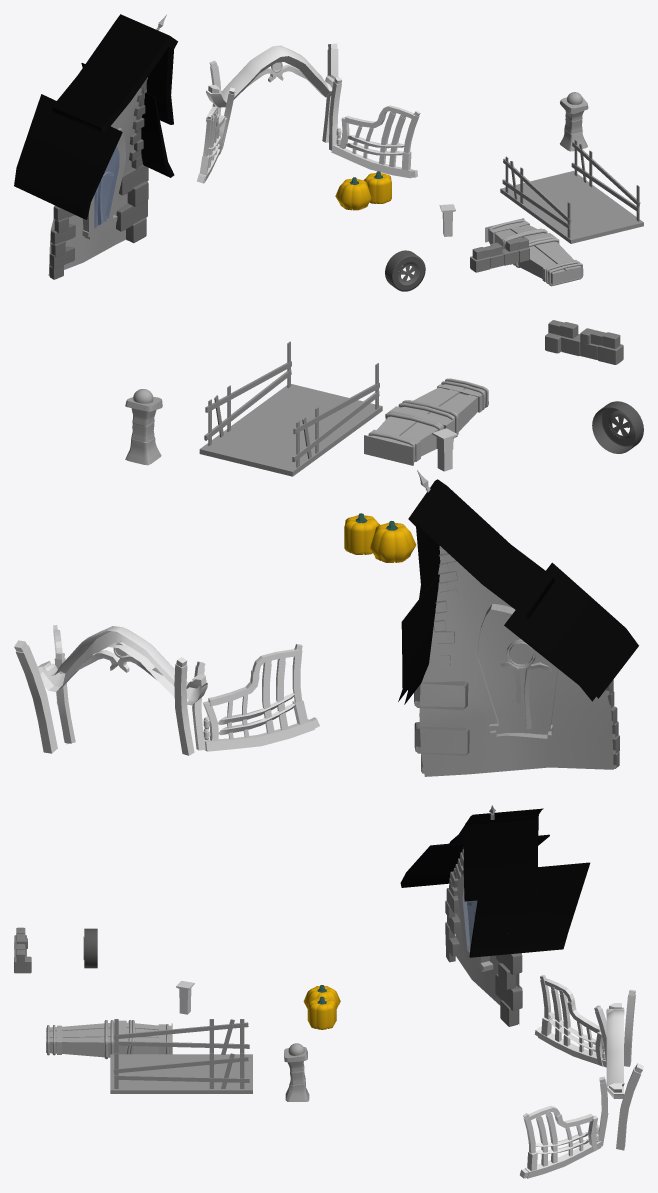
Rendered from roun pillaert.fbx.
3 renders of one model, top to bottom at view 1: azimuth 30°, elevation 25°; view 2: azimuth 150°, elevation 25°; view 3: azimuth 270°, elevation 25°, orthographic. The views are drawn at different scales.
Parts seen in each view (by area): view 1: ROVK63, my_old_tire:cart, my_old_tire:my_old_tire:gate_gear, my_old_tire:my_old_tire:rope, my_old_tire:gat_top, my_old_tire:stone_wall, my_old_tire:my_old_tire:gate_gear3, my_old_tire:statue, my_old_tire:tire_rubber1, my_old_tire:pumkins, my_old_tire:PUMKIN, rod15 (+1 smaller); view 2: ROVK63, my_old_tire:cart, my_old_tire:my_old_tire:gate_gear3, my_old_tire:my_old_tire:rope, my_old_tire:gat_top, my_old_tire:stone_wall, my_old_tire:statue, rod15, my_old_tire:tire_rubber1, my_old_tire:pumkins, rod17, my_old_tire:PUMKIN (+2 smaller); view 3: ROVK63, my_old_tire:cart, my_old_tire:my_old_tire:rope, my_old_tire:my_old_tire:gate_gear, my_old_tire:my_old_tire:gate_gear3, my_old_tire:gat_top, my_old_tire:statue, my_old_tire:PUMKIN, rod15, my_old_tire:stone_wall, rod17, my_old_tire:tire_rubber1.
Part boxes in pixels (bbox=[...]): ROVK63: bbox=[14, 14, 177, 279]; my_old_tire:cart: bbox=[500, 139, 643, 243]; my_old_tire:my_old_tire:gate_gear: bbox=[331, 105, 420, 178]; my_old_tire:my_old_tire:rope: bbox=[485, 218, 583, 286]; my_old_tire:gat_top: bbox=[206, 45, 340, 107]; my_old_tire:stone_wall: bbox=[470, 237, 529, 272]; my_old_tire:my_old_tire:gate_gear3: bbox=[197, 106, 227, 183]; my_old_tire:statue: bbox=[560, 92, 588, 151]; my_old_tire:tire_rubber1: bbox=[385, 250, 425, 291]; my_old_tire:pumkins: bbox=[335, 177, 371, 210]; my_old_tire:PUMKIN: bbox=[363, 171, 391, 203]; rod15: bbox=[322, 43, 338, 142]; ROVK63: bbox=[398, 479, 638, 776]; my_old_tire:cart: bbox=[199, 341, 382, 476]; my_old_tire:my_old_tire:gate_gear3: bbox=[203, 644, 319, 751]; my_old_tire:my_old_tire:rope: bbox=[364, 378, 488, 465]; my_old_tire:gat_top: bbox=[38, 626, 207, 705]; my_old_tire:stone_wall: bbox=[545, 320, 623, 364]; my_old_tire:statue: bbox=[125, 389, 162, 465]; rod15: bbox=[14, 640, 57, 753]; my_old_tire:tire_rubber1: bbox=[592, 401, 643, 453]; my_old_tire:pumkins: bbox=[370, 521, 416, 562]; rod17: bbox=[174, 657, 194, 755]; my_old_tire:PUMKIN: bbox=[344, 513, 379, 554]; ROVK63: bbox=[400, 808, 590, 1026]; my_old_tire:cart: bbox=[110, 1019, 252, 1093]; my_old_tire:my_old_tire:rope: bbox=[46, 1020, 172, 1059]; my_old_tire:my_old_tire:gate_gear: bbox=[520, 1106, 601, 1178]; my_old_tire:my_old_tire:gate_gear3: bbox=[534, 975, 606, 1067]; my_old_tire:gat_top: bbox=[606, 1003, 624, 1098]; my_old_tire:statue: bbox=[284, 1043, 309, 1101]; my_old_tire:PUMKIN: bbox=[307, 996, 336, 1029]; rod15: bbox=[616, 1063, 643, 1150]; my_old_tire:stone_wall: bbox=[14, 927, 31, 973]; rod17: bbox=[624, 989, 635, 1066]; my_old_tire:tire_rubber1: bbox=[84, 928, 97, 968].
Bounding box in the file's own units: 37.07 × 18.12 × 42.53.
